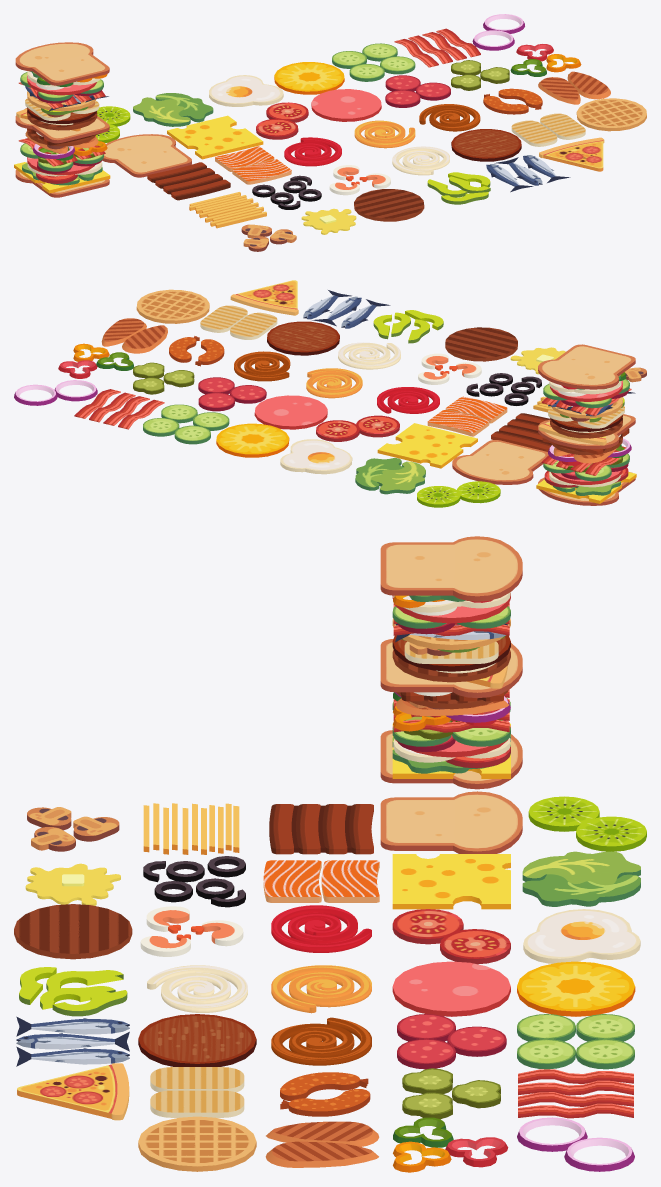
Rendered from sandwich.glb.
The picture shows the model from 3 angles, top to bottom: view 1: azimuth 30°, elevation 25°; view 2: azimuth 150°, elevation 25°; view 3: azimuth 270°, elevation 25°; orthographic projection. The views are drawn at different scales.
Parts seen in each view (by area): view 1: Sandwhich, Bread_Slice, Cheese_Slice, Cucumber_Slice, Lettuce_Slice, Ribs_Slice, Ham_Slice, Patty_Slice, Roast_Slice, Waffle_Slice, Pineapple_Slice, Egg_Slice (+23 smaller); view 2: Sandwhich, Bread_Slice, Cheese_Slice, Cucumber_Slice, Lettuce_Slice, Roast_Slice, Patty_Slice, Ham_Slice, Waffle_Slice, Pineapple_Slice, Egg_Slice, Salmon_Slice (+21 smaller); view 3: Sandwhich, Bread_Slice, Cheese_Slice, Cucumber_Slice, Lettuce_Slice, Patty_Slice, Waffle_Slice, Pineapple_Slice, Ham_Slice, Roast_Slice, Ribs_Slice, Egg_Slice (+23 smaller).
Boxes of the visible parts, box(x1,y1,x2,y2) form: Sandwhich: box(14, 42, 110, 197); Bread_Slice: box(102, 134, 191, 177); Cheese_Slice: box(167, 115, 263, 159); Cucumber_Slice: box(332, 43, 415, 81); Lettuce_Slice: box(133, 93, 213, 126); Ribs_Slice: box(147, 162, 230, 200); Ham_Slice: box(311, 89, 381, 121); Patty_Slice: box(354, 189, 424, 221); Roast_Slice: box(451, 129, 521, 161); Waffle_Slice: box(576, 98, 646, 131); Pineapple_Slice: box(274, 62, 344, 94); Egg_Slice: box(209, 75, 283, 106); Sandwhich: box(536, 344, 636, 505); Bread_Slice: box(452, 440, 548, 484); Cheese_Slice: box(377, 423, 477, 468); Cucumber_Slice: box(143, 404, 229, 444); Lettuce_Slice: box(355, 458, 425, 494); Roast_Slice: box(267, 321, 339, 355); Patty_Slice: box(445, 327, 517, 361); Ham_Slice: box(254, 395, 327, 429); Waffle_Slice: box(136, 289, 209, 323); Pineapple_Slice: box(216, 423, 289, 457); Egg_Slice: box(280, 439, 352, 474); Salmon_Slice: box(427, 396, 507, 436); Sandwhich: box(380, 536, 522, 789); Bread_Slice: box(380, 791, 522, 853); Cheese_Slice: box(392, 854, 510, 909); Cucumber_Slice: box(517, 1014, 634, 1069); Lettuce_Slice: box(522, 851, 640, 906); Patty_Slice: box(14, 904, 132, 959); Waffle_Slice: box(138, 1116, 256, 1171); Pineapple_Slice: box(517, 961, 635, 1016); Ham_Slice: box(392, 961, 510, 1016); Roast_Slice: box(138, 1014, 256, 1066); Ribs_Slice: box(269, 804, 373, 854); Egg_Slice: box(523, 909, 640, 963).
Size of the model in its own units: 1.77 by 0.3605 by 1.07.
Materials: 34 (34 with a texture image).
